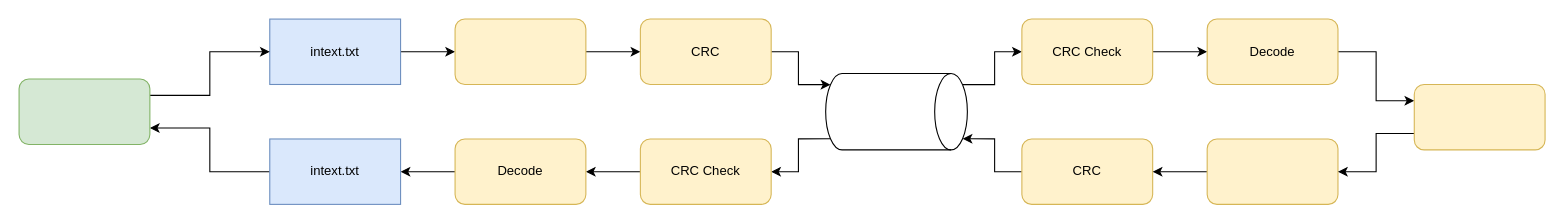
This 1564x223 diagram has some shape labels left out. Here are the shapes that lost their labels. From the top down, the box of each, then its label:
(454, 18, 586, 84): Encoding
(18, 78, 150, 144): User
(1413, 83, 1545, 150): Multi Threading
(1206, 138, 1338, 204): Encode
